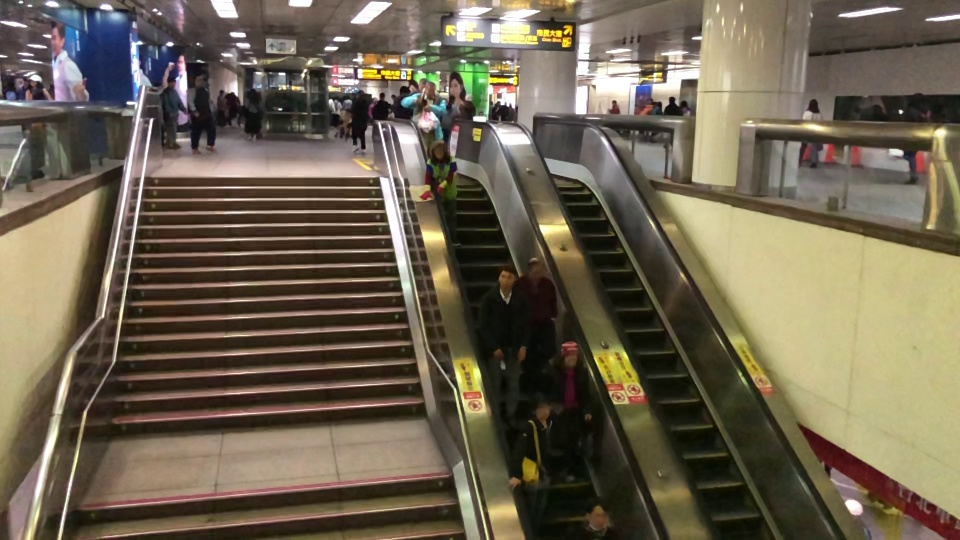person_head: (582, 495, 610, 527), (557, 341, 584, 371), (497, 264, 517, 289), (532, 399, 551, 420), (528, 256, 547, 276), (431, 139, 448, 158), (424, 82, 436, 98), (193, 73, 206, 87), (911, 92, 925, 105), (398, 85, 411, 96), (28, 76, 41, 86), (808, 98, 818, 111), (166, 77, 176, 85), (249, 88, 257, 98), (356, 90, 365, 97), (378, 91, 385, 100), (448, 94, 455, 103), (465, 93, 472, 102), (668, 96, 675, 104), (680, 100, 687, 106), (612, 99, 617, 105), (657, 101, 662, 107), (651, 101, 655, 105)
person_vbox: (479, 264, 529, 434), (544, 340, 598, 484), (508, 398, 553, 531), (519, 256, 558, 396), (422, 139, 461, 246), (900, 92, 934, 189), (401, 82, 446, 153), (186, 73, 217, 156), (160, 78, 188, 149), (572, 495, 615, 540), (799, 98, 824, 168), (242, 87, 263, 139), (351, 89, 367, 155), (393, 85, 414, 119), (25, 75, 53, 100), (371, 91, 391, 120), (441, 94, 456, 130), (459, 92, 475, 119), (664, 97, 683, 116), (638, 100, 655, 117), (606, 98, 620, 113), (680, 100, 692, 114), (651, 101, 662, 115)
